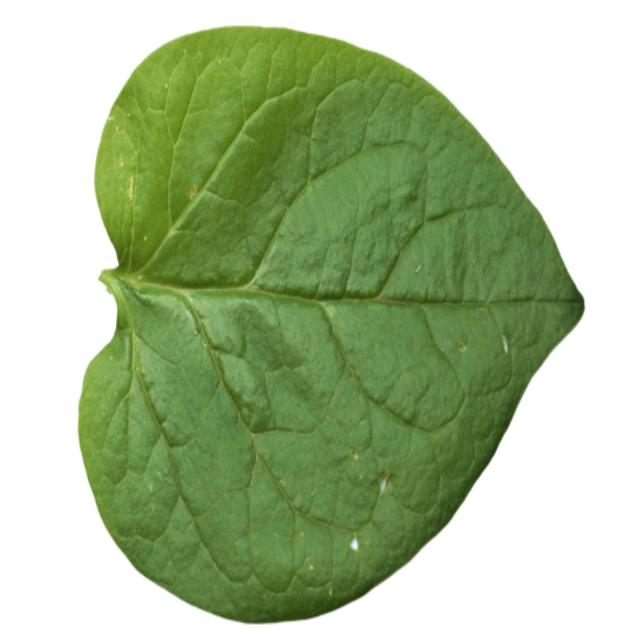Medicinal-Basale: (77, 23, 578, 623)
